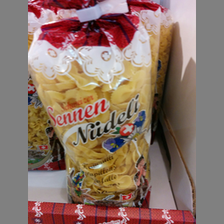pasta: (29, 15, 154, 206)
